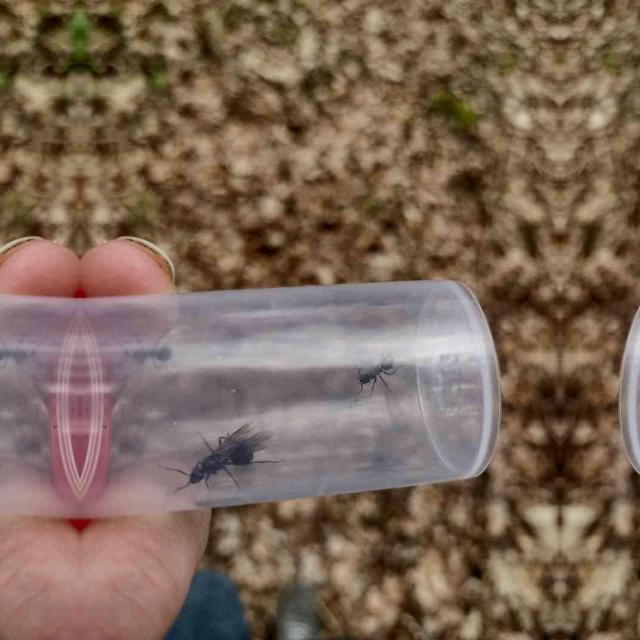Formica: (172, 404, 258, 500), (342, 344, 402, 396)
